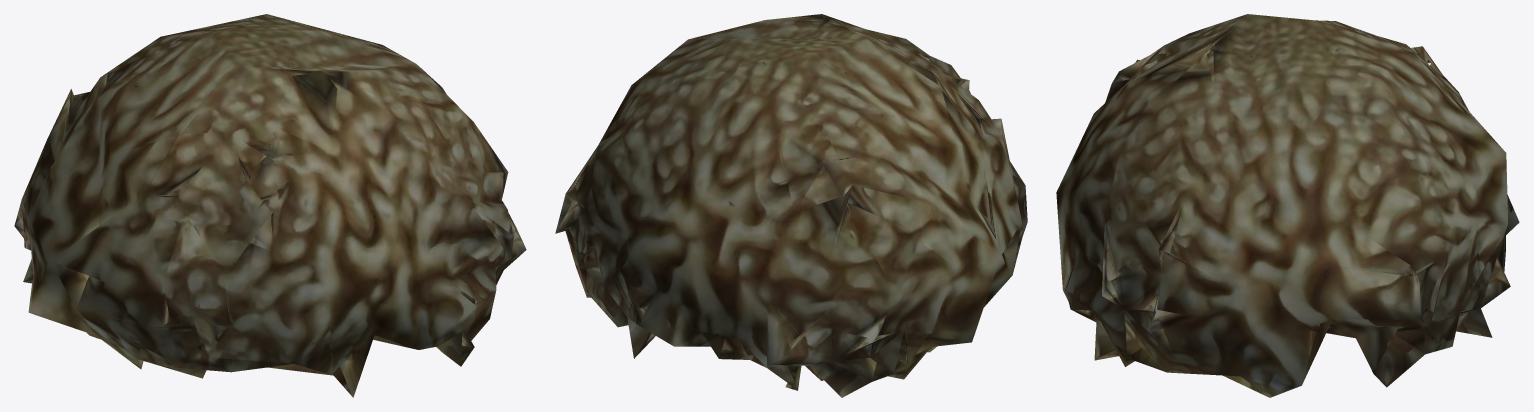
Rendered from coral_02.glb.
The picture shows the model from 3 angles, left to right: view 1: azimuth 30°, elevation 25°; view 2: azimuth 150°, elevation 25°; view 3: azimuth 270°, elevation 25°; orthographic projection. The views are drawn at different scales.
Visible parts, largest first — view 1: mesh; view 2: mesh; view 3: mesh.
Part boxes in pixels (box(x1,y1,x2,y2)): mesh: box(14, 14, 526, 397); mesh: box(555, 14, 1027, 397); mesh: box(1056, 14, 1519, 397).
Bounding box in the file's own units: 0.9546 × 0.6142 × 0.9238.
1 material, 1 textured.
